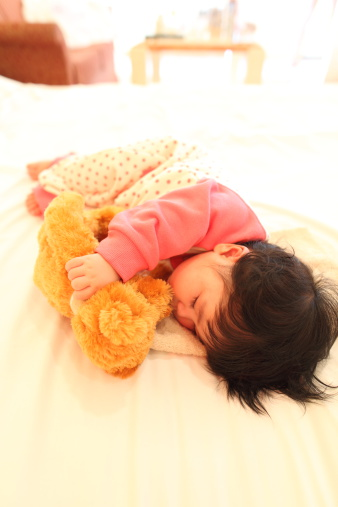deitado: (26, 165, 338, 469)
